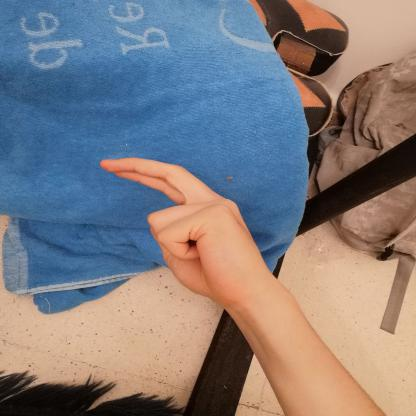ZAY: (87, 151, 282, 310)
